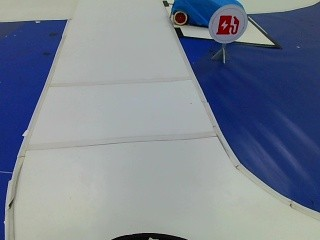battery: (211, 8, 244, 40)
car: (166, 0, 244, 29)
